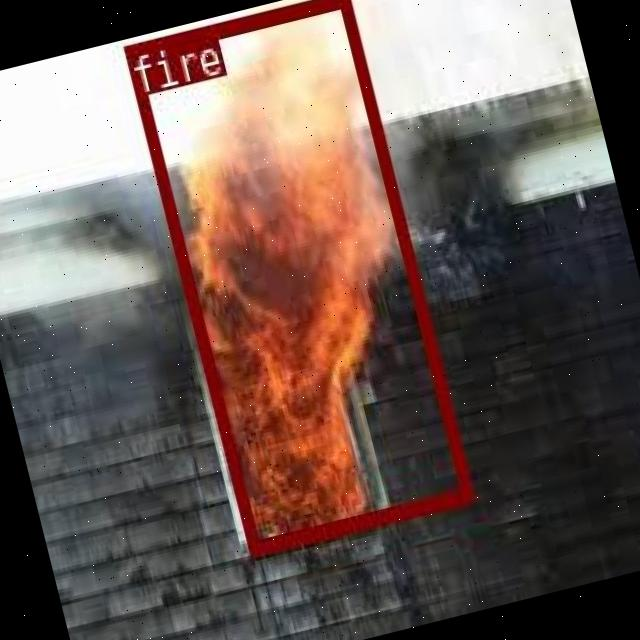fire: (121, 0, 470, 553)
